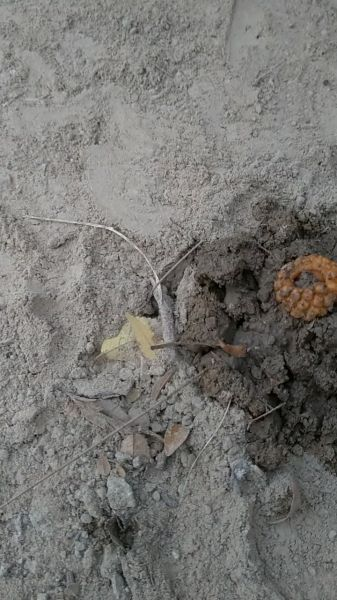eggs: (274, 245, 337, 322)
